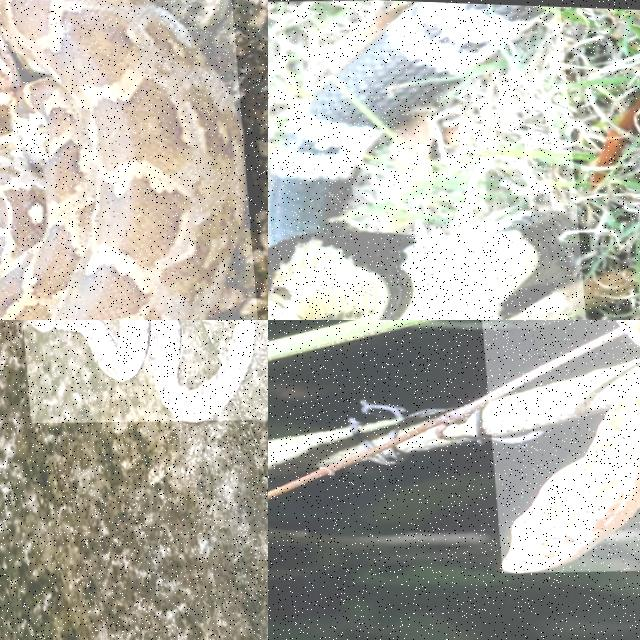Calloselasma rhodostoma: (503, 388, 639, 573)
Naja siamensis: (268, 2, 578, 319)
Ovophis monticola: (27, 320, 255, 421)
Python bivittatus: (0, 0, 244, 319)
snake: (268, 2, 578, 319), (0, 0, 244, 319), (503, 388, 639, 573), (27, 320, 255, 421)
